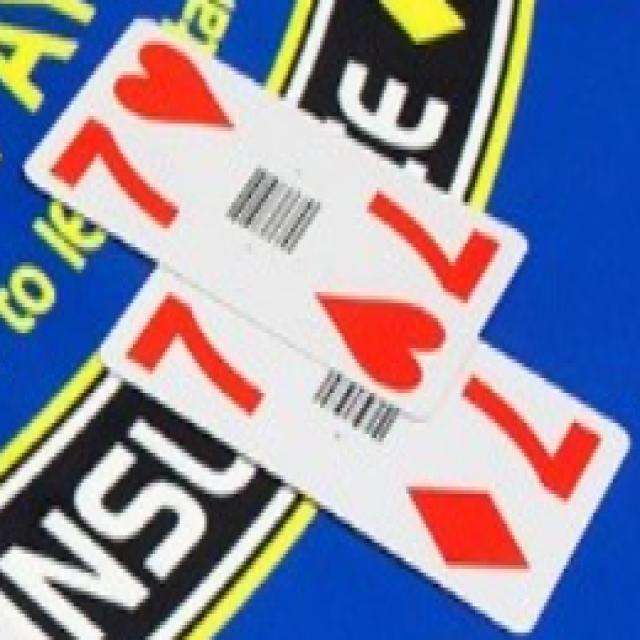Card-7: (25, 17, 529, 419), (101, 264, 631, 632)
